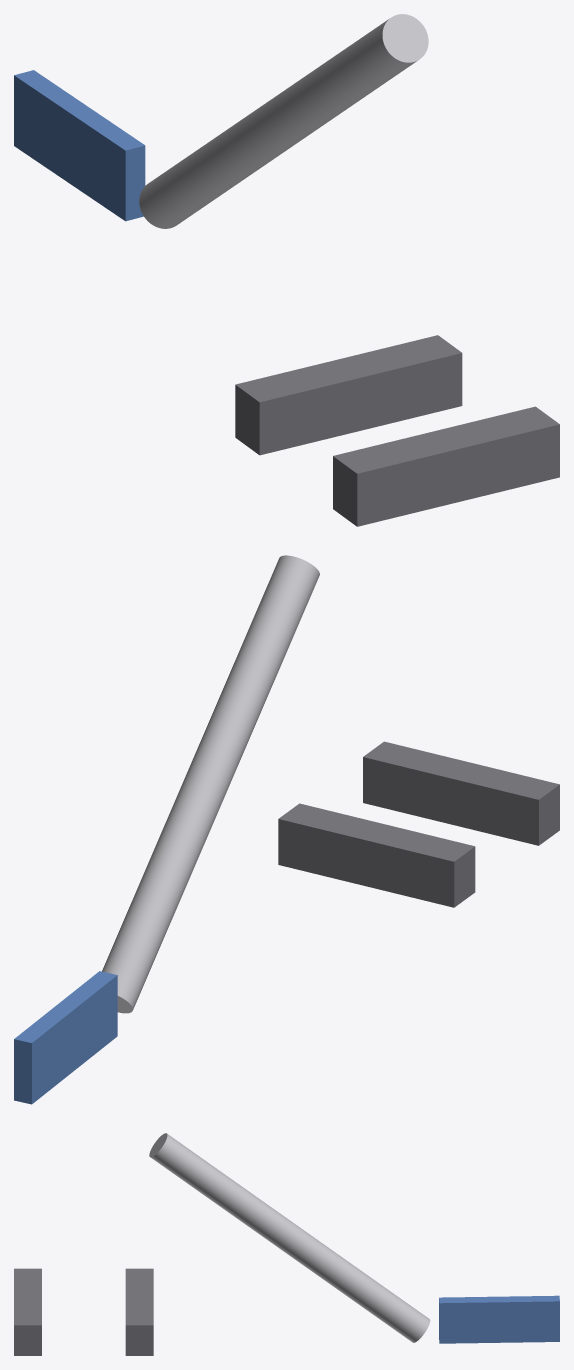
Rendered from skater_W-RD_lower.glb.
3 renders of one model, top to bottom at view 1: azimuth 30°, elevation 25°; view 2: azimuth 150°, elevation 25°; view 3: azimuth 270°, elevation 25°, orthographic. The views are drawn at different scales.
Visible parts, largest first — view 1: SkaterLower.W-RD; view 2: SkaterLower.W-RD; view 3: SkaterLower.W-RD.
Part boxes in pixels (<box>): SkaterLower.W-RD: <box>14,14,559,526</box>; SkaterLower.W-RD: <box>14,555,559,1104</box>; SkaterLower.W-RD: <box>14,1133,559,1355</box>.
Size of the model in its own units: 0.012 by 0.021 by 0.0488.
